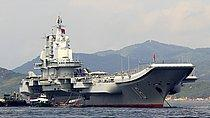MIL_Ship: (19, 14, 199, 108)
